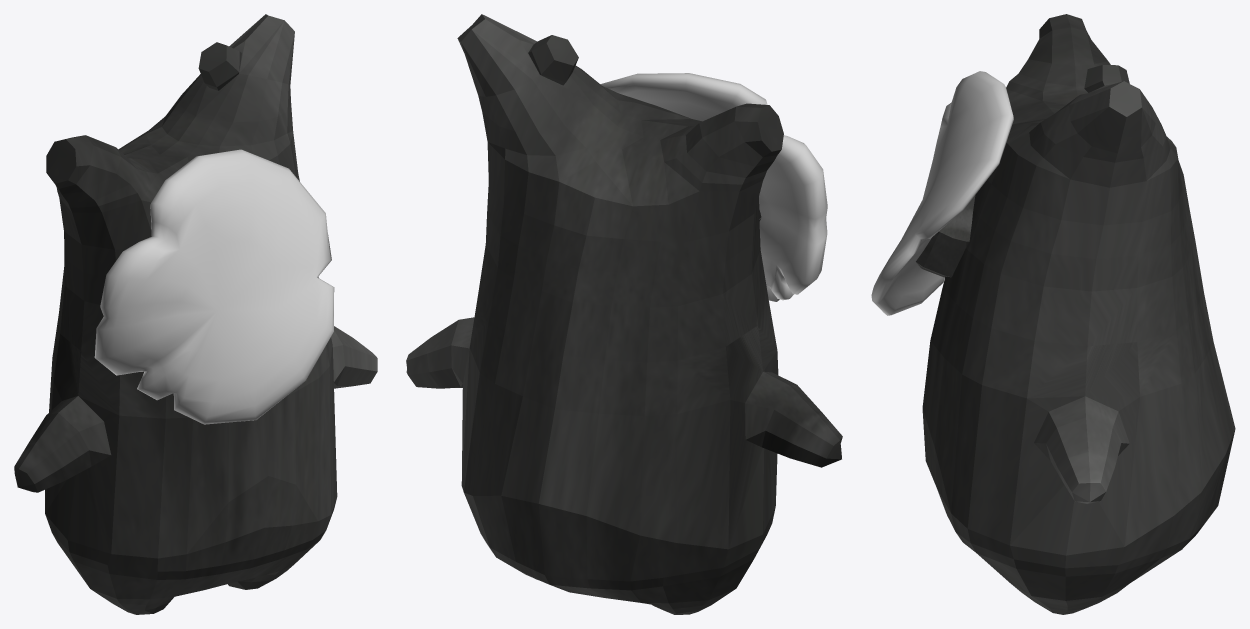
Rendered from frame_0015.obj.
The picture shows the model from 3 angles, left to right: view 1: azimuth 30°, elevation 25°; view 2: azimuth 150°, elevation 25°; view 3: azimuth 270°, elevation 25°; orthographic projection. The views are drawn at different scales.
Parts seen in each view (by area): view 1: korok, leaf; view 2: korok, leaf; view 3: korok, leaf, nose.
Boxes of the visible parts, x1=… form: korok: x1=14, y1=14, x2=377, y2=614; leaf: x1=94, y1=149, x2=334, y2=424; korok: x1=406, y1=14, x2=842, y2=614; leaf: x1=600, y1=73, x2=827, y2=301; korok: x1=922, y1=14, x2=1235, y2=614; leaf: x1=871, y1=71, x2=1013, y2=315; nose: x1=916, y1=195, x2=975, y2=277.
Bounding box in the file's own units: 1.69 × 2.28 × 1.36.
